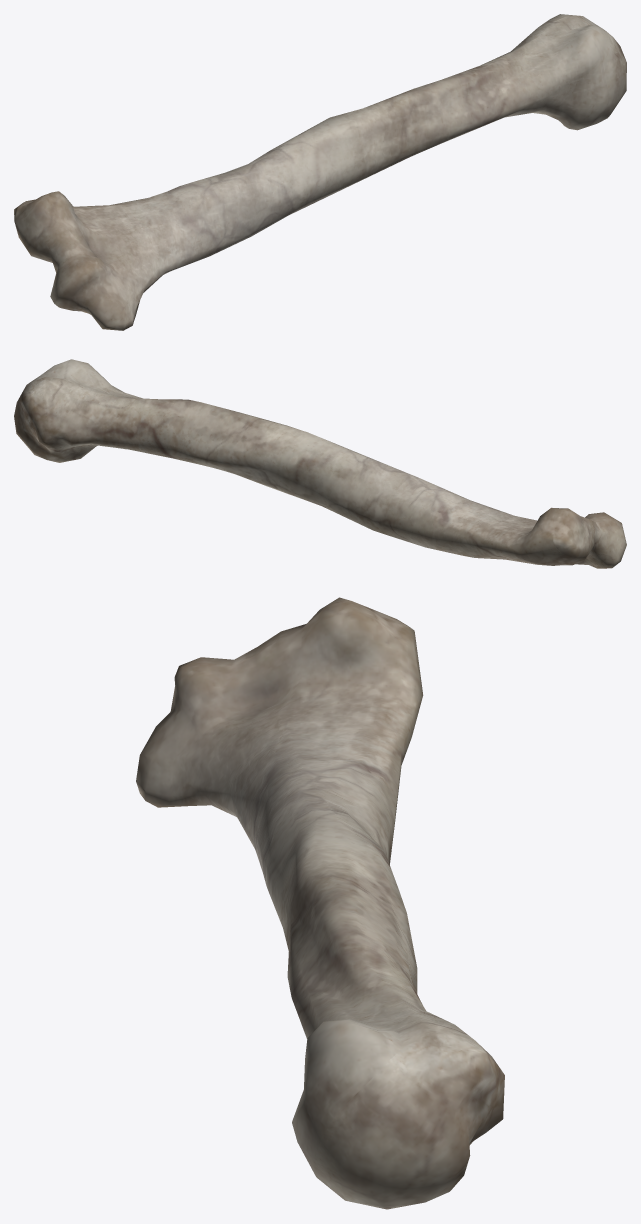
File: SM_Bone02.fbx
3 views of the same model, one above another, from view 1: azimuth 30°, elevation 25°; view 2: azimuth 150°, elevation 25°; view 3: azimuth 270°, elevation 25° (orthographic). The views are drawn at different scales.
Visible parts, largest first — view 1: SM_Bone02_LOD0; view 2: SM_Bone02_LOD0; view 3: SM_Bone02_LOD0.
Boxes of the visible parts, box(x1,y1,x2,y2) form: SM_Bone02_LOD0: box(14, 14, 626, 330); SM_Bone02_LOD0: box(14, 359, 626, 568); SM_Bone02_LOD0: box(136, 597, 504, 1209).
Size of the model in its own units: 37.53 by 10.79 by 7.79.
